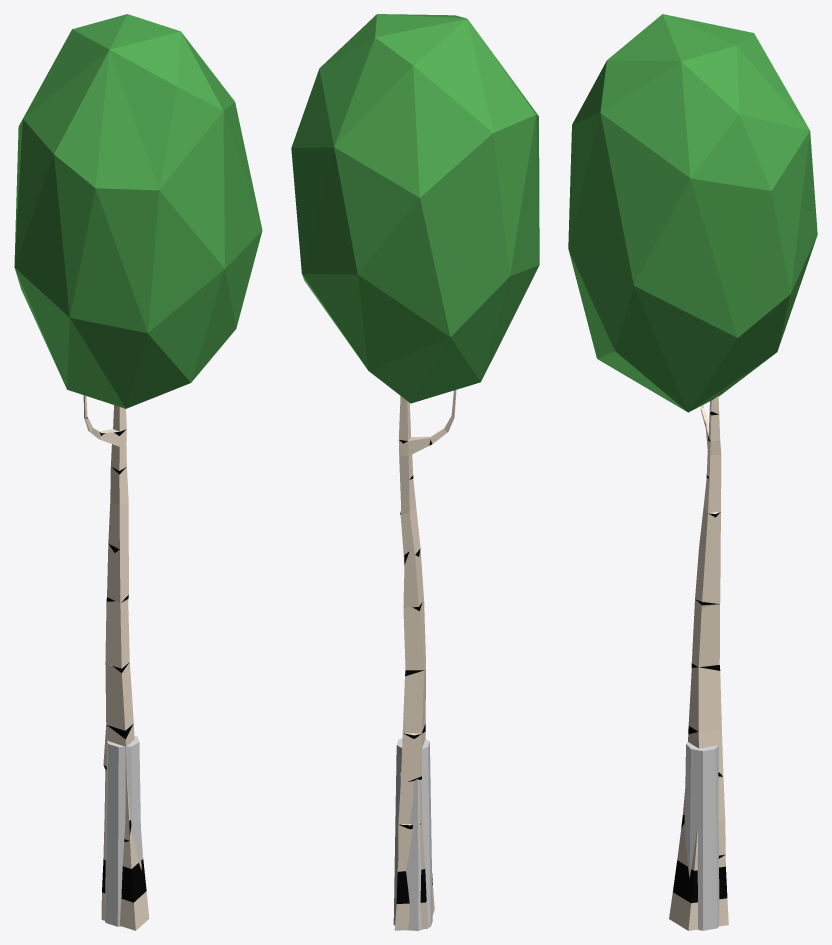
The model's file is floresta_tree_birch_small_green.glb.
3 views of the same model, side by side, from view 1: azimuth 30°, elevation 25°; view 2: azimuth 150°, elevation 25°; view 3: azimuth 270°, elevation 25° (orthographic).
Parts seen in each view (by area): view 1: Birch small green f, Colisao; view 2: Birch small green f, Colisao; view 3: Birch small green f, Colisao.
Part boxes in pixels (x1,y1,x2,y2): Birch small green f: (14, 14, 262, 930); Colisao: (105, 735, 141, 926); Birch small green f: (291, 14, 539, 930); Colisao: (393, 738, 432, 930); Birch small green f: (568, 14, 817, 930); Colisao: (684, 742, 719, 930).
Bounding box in the file's own units: 2.66 × 10.88 × 2.76.
